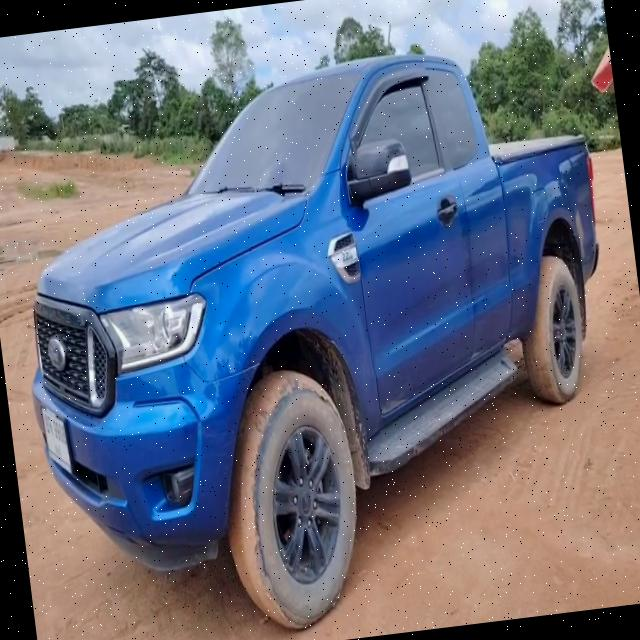Digit: (51, 418, 66, 445)
Licenseplate: (40, 407, 72, 473)
Provincename: (53, 441, 63, 458)
Thaichar: (43, 412, 54, 437)
